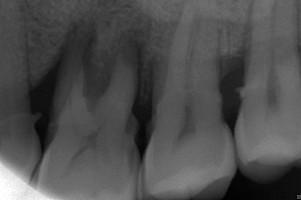Dental Caries: (55, 14, 153, 112)
